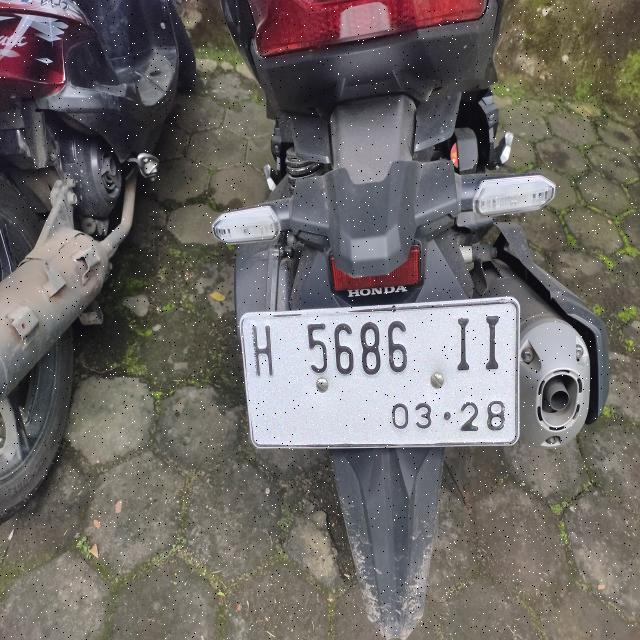plate: (241, 298, 519, 446)
